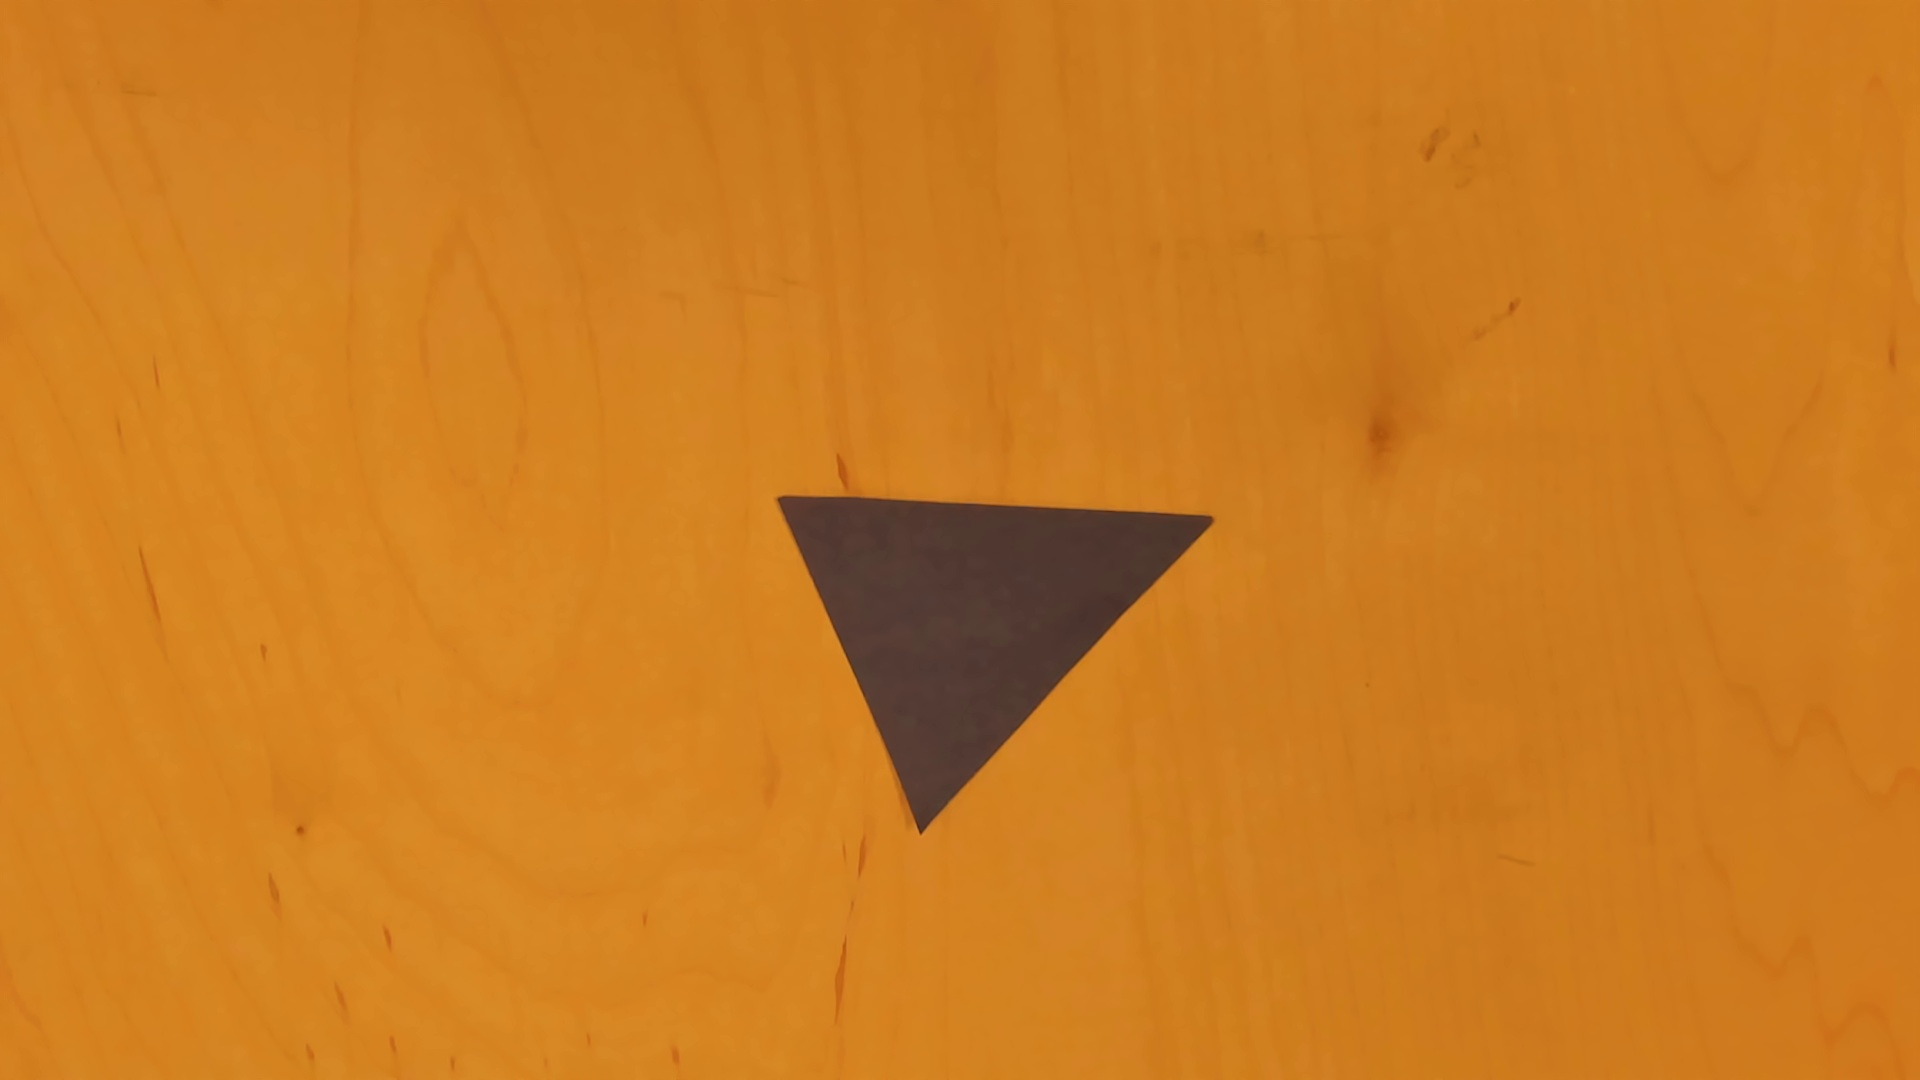BT: (771, 491, 1220, 839)
